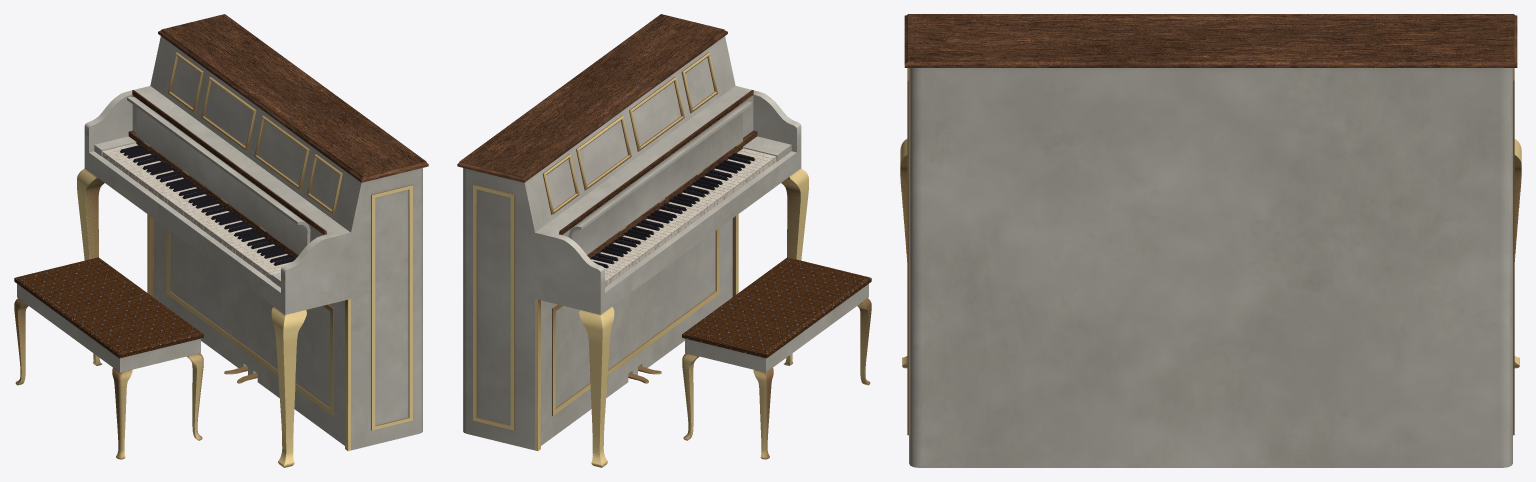
3 renders of one model, left to right at view 1: azimuth 30°, elevation 25°; view 2: azimuth 150°, elevation 25°; view 3: azimuth 270°, elevation 25°, orthographic. The views are drawn at different scales.
Parts seen in each view (by area): view 1: Main_Body, Stool_Body, Cube, Main_Body_Legs, White_Keys, Black_Keys, Side_Trimming, Stool_Legs, Under_Trimming, Trimming, Holder, Keys_Backboard; view 2: Main_Body, Stool_Body, Cube, Main_Body_Legs, White_Keys, Black_Keys, Side_Trimming, Stool_Legs, Under_Trimming, Trimming, Holder, Keys_Backboard (+1 smaller); view 3: Main_Body, Main_Body_Legs, Side_Trimming.
Boxes of the visible parts, x1,y1,x2,y2 form: Main_Body: (84, 14, 428, 450); Stool_Body: (14, 257, 203, 372); Cube: (127, 96, 310, 254); Main_Body_Legs: (77, 168, 306, 467); White_Keys: (105, 150, 291, 275); Black_Keys: (120, 145, 295, 265); Side_Trimming: (371, 184, 412, 430); Stool_Legs: (14, 298, 203, 459); Under_Trimming: (166, 228, 333, 415); Trimming: (147, 214, 350, 450); Holder: (132, 90, 326, 234); Keys_Backboard: (128, 130, 298, 257); Main_Body: (457, 14, 801, 450); Stool_Body: (682, 257, 871, 372); Cube: (568, 101, 751, 254); Main_Body_Legs: (579, 168, 808, 467); White_Keys: (591, 157, 769, 283); Black_Keys: (592, 152, 755, 268); Side_Trimming: (473, 184, 514, 430); Stool_Legs: (682, 298, 871, 459); Under_Trimming: (552, 228, 719, 415); Trimming: (535, 214, 738, 450); Holder: (559, 90, 753, 234); Keys_Backboard: (587, 130, 757, 259); Main_Body: (904, 14, 1517, 467); Main_Body_Legs: (900, 139, 1521, 368); Side_Trimming: (907, 68, 1514, 435).
Size of what is drawn, in the model's own units: 1.37 by 1.36 by 1.88.
4 materials, 4 textured.
